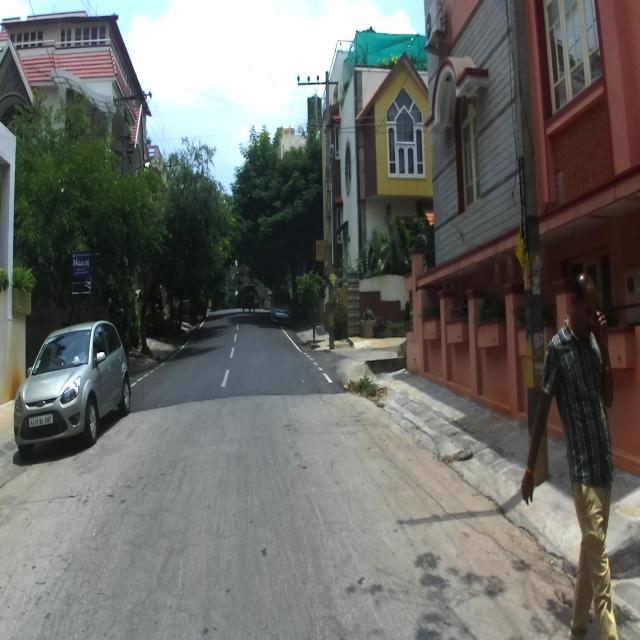car ahead at: (13, 320, 134, 454)
electric pole ahead at: (501, 0, 554, 515)
person ahead at: (527, 273, 632, 640)
